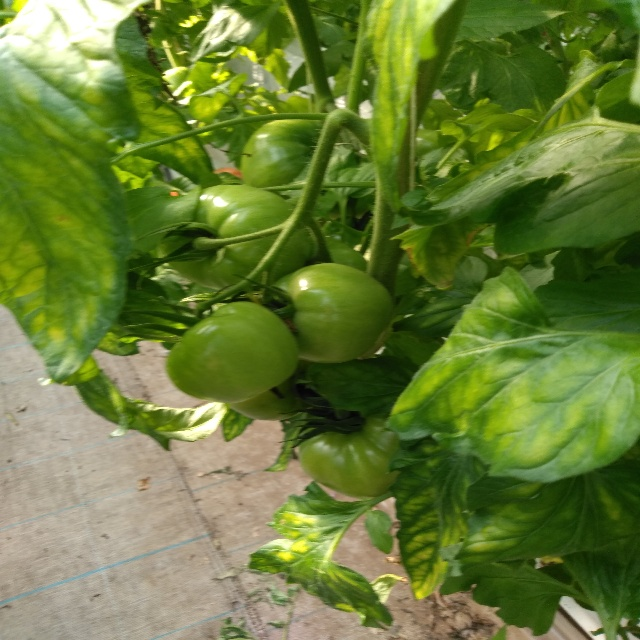b_green: (158, 184, 311, 293), (164, 301, 300, 404), (266, 263, 394, 364), (298, 411, 399, 499), (241, 120, 326, 200), (225, 375, 310, 421)
